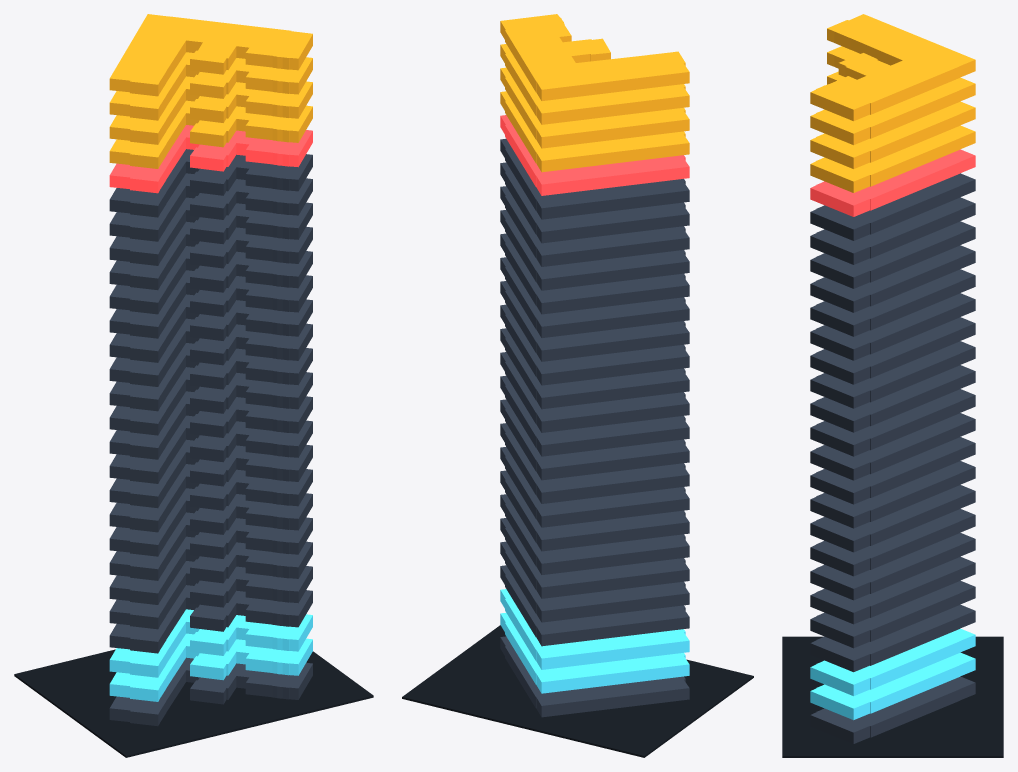
3 views of the same model, side by side, from view 1: azimuth 30°, elevation 25°; view 2: azimuth 150°, elevation 25°; view 3: azimuth 270°, elevation 25° (orthographic). The views are drawn at different scales.
Visible parts, largest first — view 1: Ground, f26, fB1, f9, f18, f5, f14, f23, f7, f16, f25, f1 (+16 smaller); view 2: Ground, f26, f9, f19, f2, f7, f8, f17, f20, f10, f11, f18 (+16 smaller); view 3: Ground, f26, f25, f24, f23, f13, f19, f20, fB1, f1, f3, f11 (+16 smaller).
Boxes of the visible parts, x1,y1,x2,y2 form: Ground: (14,649,373,757); f26: (109,14,312,96); fB1: (109,657,312,726); f9: (109,439,312,508); f18: (109,221,312,290); f5: (109,536,312,604); f14: (109,318,312,386); f23: (109,100,312,168); f7: (109,488,312,556); f16: (109,270,312,338); f25: (109,52,312,120); f1: (109,633,312,701); Ground: (402,625,753,757); f26: (500,14,689,100); f9: (500,423,689,503); f19: (500,186,689,266); f2: (500,589,689,669); f7: (500,470,689,551); f8: (500,447,689,527); f17: (500,233,689,314); f20: (500,162,689,243); f10: (500,399,689,480); f11: (500,375,689,456); f18: (500,210,689,290); Ground: (782,636,1003,757); f26: (810,14,975,121); f25: (810,46,975,145); f24: (810,71,975,168); f23: (810,125,975,192); f13: (810,365,975,432); f19: (810,221,975,288); f20: (810,197,975,264); fB1: (810,676,975,743); f1: (810,652,975,720); f3: (810,604,975,672); f11: (810,413,975,480).
Size of the model in its own units: 0.268 by 0.6653 by 0.2097.
